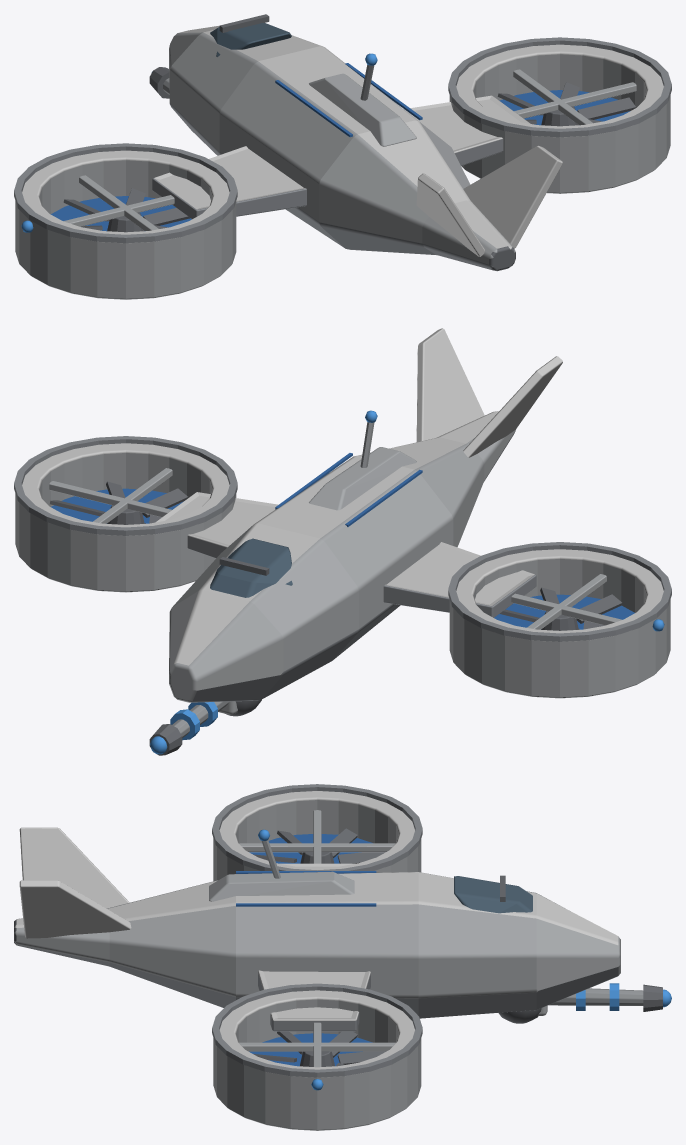
Rendered from lattice_gunship.glb.
3 renders of one model, top to bottom at view 1: azimuth 30°, elevation 25°; view 2: azimuth 150°, elevation 25°; view 3: azimuth 270°, elevation 25°, orthographic. The views are drawn at different scales.
Visible parts, largest first — view 1: Body; view 2: Body; view 3: Body.
Boxes of the visible parts, x1,y1,x2,y2 form: Body: (14,14,671,299); Body: (14,328,671,755); Body: (14,784,671,1130).
Size of the model in its own units: 2.48 by 0.752 by 2.34.
